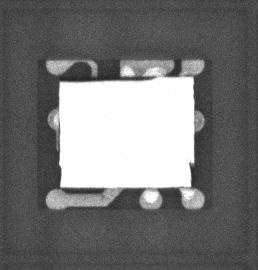DIE_BROKEN: (60, 76, 160, 83), (58, 115, 63, 188), (187, 161, 194, 187)
